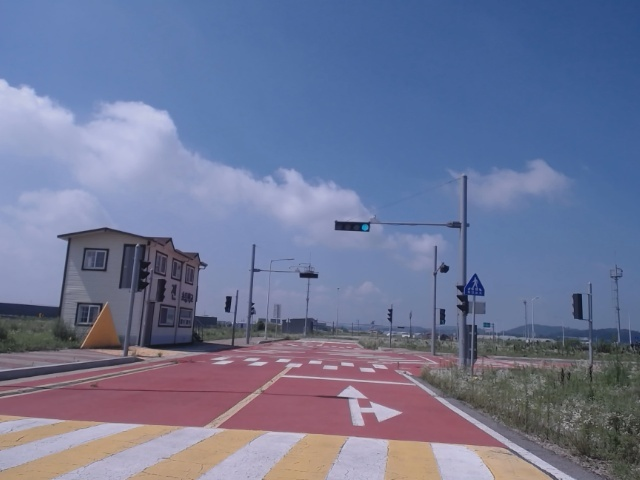straight_green_4: (335, 222, 369, 231)
